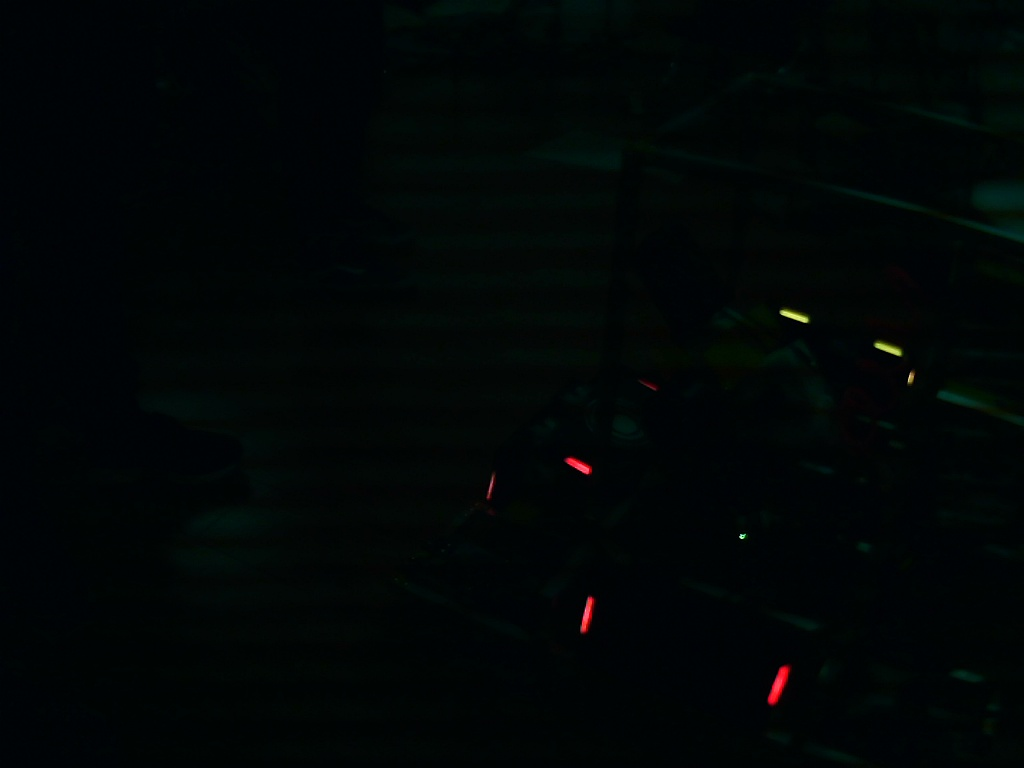lamp: (766, 660, 789, 708), (580, 593, 595, 638)
